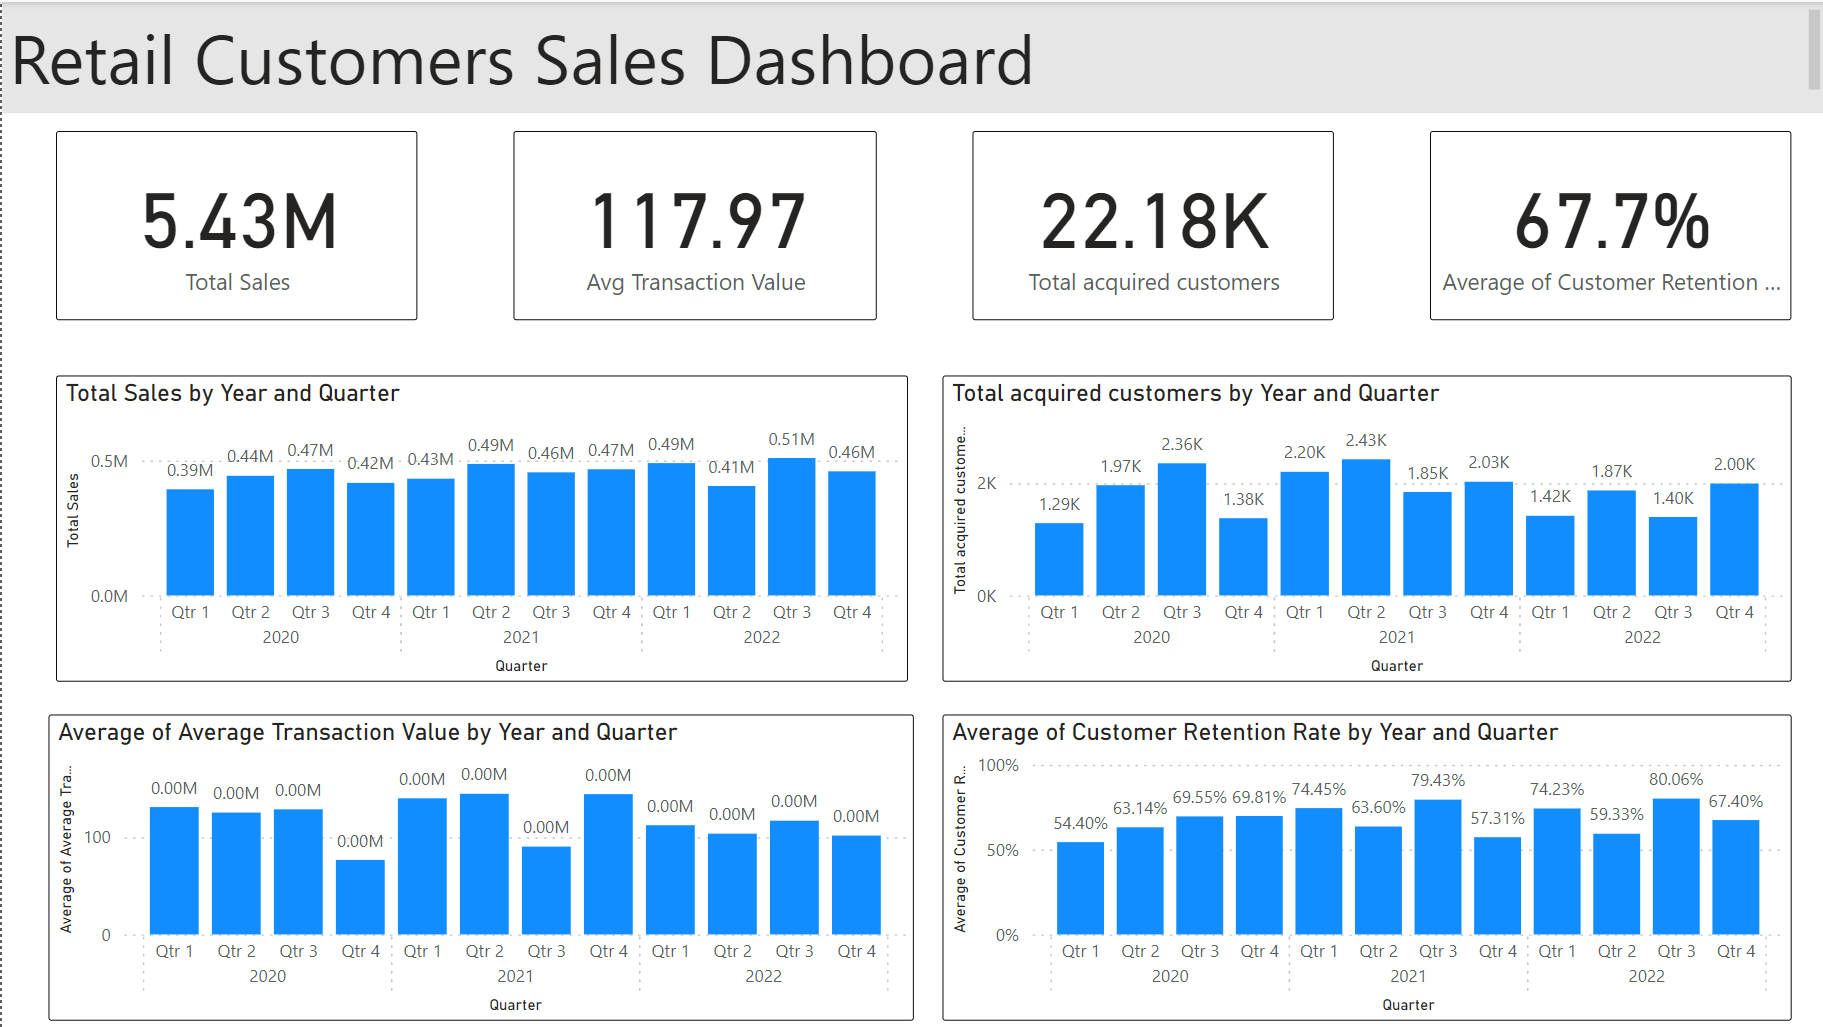

Layout of this report page (visuals, bound fields, positions):
{"tool":"powerbi","page":{"name":"Page 1","canvas":[1280,720],"ordinal":0},"visuals":[{"type":"card","fields":{"Values":["Sum(Retail_Dashboard_Data (2).Monthly Sales)"]},"box":[37.9,90.4,253.4,132.5],"z":0},{"type":"card","fields":{"Values":["Avg(Retail_Dashboard_Data (2).Average Transaction Value)"]},"box":[358.6,90.4,254.5,132.5],"z":1000},{"type":"card","fields":{"Values":["Sum(Retail_Dashboard_Data (2).New Customers Acquired)"]},"box":[680.4,90.4,253.4,132.5],"z":2000},{"type":"card","fields":{"Values":["Avg(Retail_Dashboard_Data (2).Customer Retention Rate)"]},"box":[1001.1,90.4,253.4,132.5],"z":3000},{"type":"clusteredColumnChart","fields":{"Y":["Sum(Retail_Dashboard_Data (2).Monthly Sales)"],"Category":["Retail_Dashboard_Data (2).Date.Variation.Date Hierarchy.Year","Retail_Dashboard_Data (2).Date.Variation.Date Hierarchy.Quarter"]},"box":[37.9,261.9,597.3,214.5],"z":4000},{"type":"clusteredColumnChart","fields":{"Category":["Retail_Dashboard_Data (2).Date.Variation.Date Hierarchy.Year","Retail_Dashboard_Data (2).Date.Variation.Date Hierarchy.Quarter"],"Y":["Avg(Retail_Dashboard_Data (2).Average Transaction Value)"]},"box":[32.6,499.5,606.8,214.5],"z":5000},{"type":"clusteredColumnChart","fields":{"Y":["Sum(Retail_Dashboard_Data (2).New Customers Acquired)"],"Category":["Retail_Dashboard_Data (2).Date.Variation.Date Hierarchy.Year","Retail_Dashboard_Data (2).Date.Variation.Date Hierarchy.Quarter"]},"box":[659.4,261.9,595.2,214.5],"z":6000},{"type":"clusteredColumnChart","fields":{"Y":["Avg(Retail_Dashboard_Data (2).Customer Retention Rate)"],"Category":["Retail_Dashboard_Data (2).Date.Variation.Date Hierarchy.Year","Retail_Dashboard_Data (2).Date.Variation.Date Hierarchy.Quarter"]},"box":[659.4,499.5,595.2,214.5],"z":7000},{"type":"textbox","box":[0,0,1279.8,77.8],"z":8000}]}

Visuals, with their boxes in screenshot pixels (x1, y1, x2, y2), scaled from the page's 1280x720 canvas onto the 1823x1027 screenshot:
card - Sum(Retail_Dashboard_Data (2).Monthly Sales): 54 129 415 318
card - Avg(Retail_Dashboard_Data (2).Average Transaction Value): 511 129 873 318
card - Sum(Retail_Dashboard_Data (2).New Customers Acquired): 969 129 1330 318
card - Avg(Retail_Dashboard_Data (2).Customer Retention Rate): 1426 129 1787 318
clusteredColumnChart - Sum(Retail_Dashboard_Data (2).Monthly Sales) x Retail_Dashboard_Data (2).Date.Variation.Date Hierarchy.Year: 54 374 905 680
clusteredColumnChart - Retail_Dashboard_Data (2).Date.Variation.Date Hierarchy.Year x Retail_Dashboard_Data (2).Date.Variation.Date Hierarchy.Quarter: 46 712 911 1018
clusteredColumnChart - Sum(Retail_Dashboard_Data (2).New Customers Acquired) x Retail_Dashboard_Data (2).Date.Variation.Date Hierarchy.Year: 939 374 1787 680
clusteredColumnChart - Avg(Retail_Dashboard_Data (2).Customer Retention Rate) x Retail_Dashboard_Data (2).Date.Variation.Date Hierarchy.Year: 939 712 1787 1018
textbox: 0 0 1822 111
